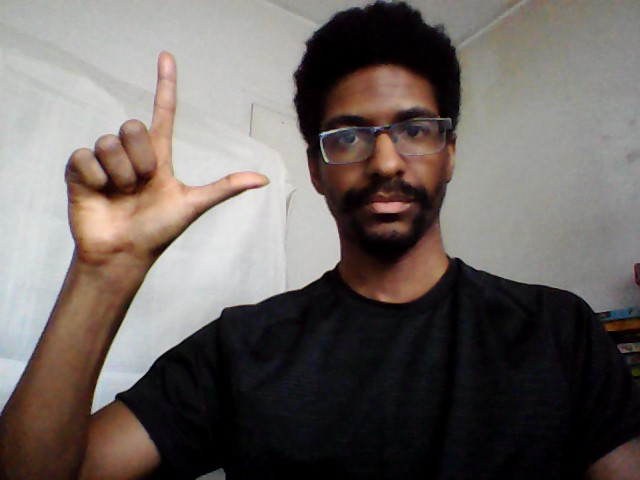l: (61, 46, 273, 262)
